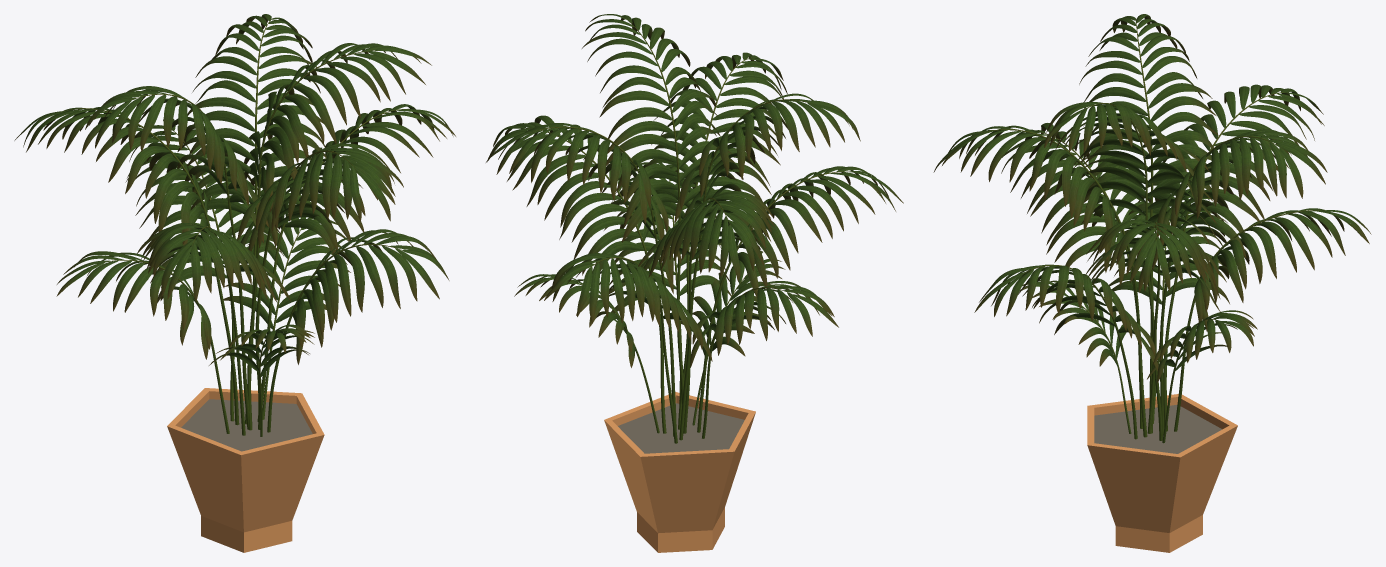
File: plant.glb
3 renders of one model, left to right at view 1: azimuth 30°, elevation 25°; view 2: azimuth 150°, elevation 25°; view 3: azimuth 270°, elevation 25°, orthographic. The views are drawn at different scales.
Visible parts, largest first — view 1: Howea_f__A001.003, Cylinder.082; view 2: Howea_f__A001.003, Cylinder.082; view 3: Howea_f__A001.003, Cylinder.082.
Part boxes in pixels (bbox=[...]): Howea_f__A001.003: bbox=[14, 14, 455, 436]; Cylinder.082: bbox=[167, 388, 324, 552]; Howea_f__A001.003: bbox=[486, 14, 903, 443]; Cylinder.082: bbox=[604, 392, 755, 552]; Howea_f__A001.003: bbox=[933, 14, 1371, 443]; Cylinder.082: bbox=[1087, 394, 1237, 552].
Size of the model in its own units: 1.49 by 1.83 by 1.54.
Materials: 4 (2 with a texture image).
